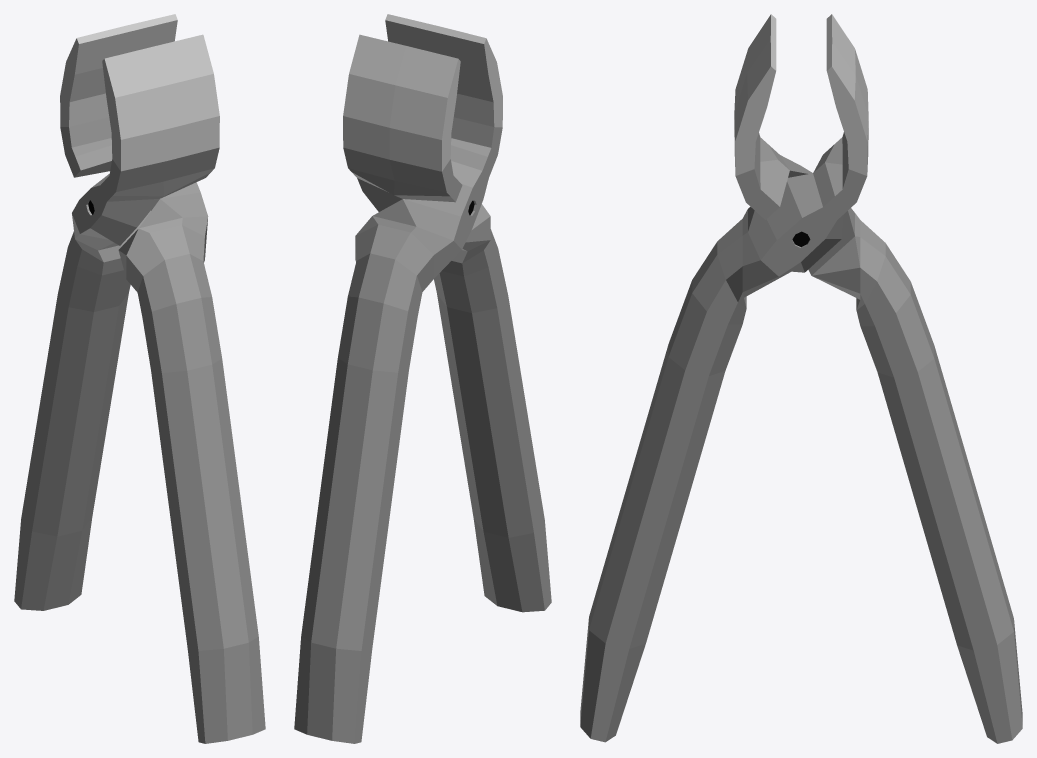
File: plier02.obj
3 views of the same model, side by side, from view 1: azimuth 30°, elevation 25°; view 2: azimuth 150°, elevation 25°; view 3: azimuth 270°, elevation 25° (orthographic). The views are drawn at different scales.
Parts seen in each view (by area): view 1: Cylinder; view 2: Cylinder; view 3: Cylinder.
Part boxes in pixels (x1,y1,x2,y2): Cylinder: (14,14,265,743); Cylinder: (294,14,551,743); Cylinder: (580,14,1022,743).
Bounding box in the file's own units: 0.0228 × 0.1397 × 0.0812.
Materials: 1 (1 with a texture image).
